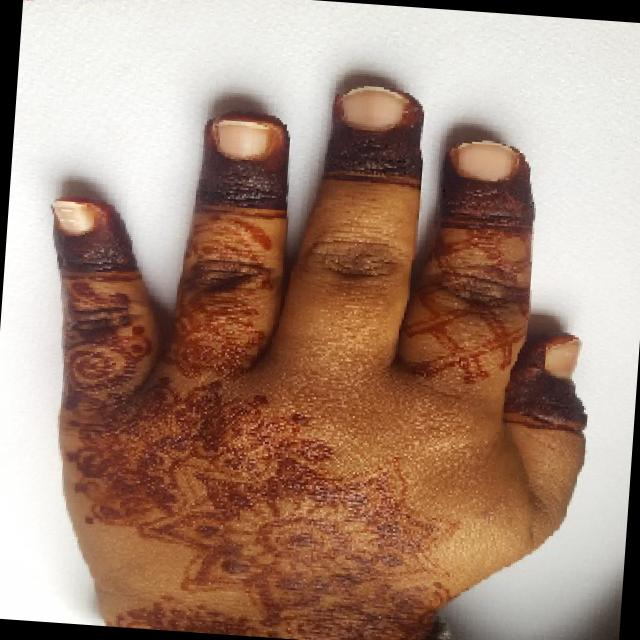Nail: (340, 86, 406, 130), (454, 140, 515, 180), (216, 119, 268, 156), (53, 199, 97, 234), (542, 335, 578, 377)
